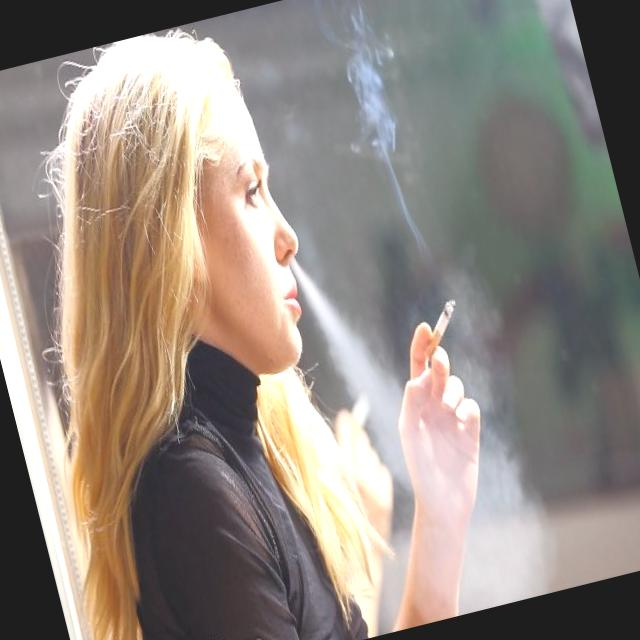smoke: (399, 281, 475, 371)
